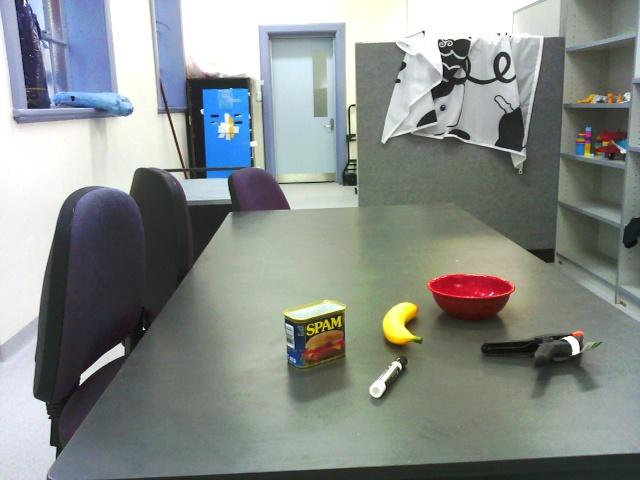010_potted_meat_can: (282, 299, 352, 367)
011_banana: (382, 298, 426, 350)
024_bowl: (422, 272, 522, 318)
040_large_marker: (367, 357, 412, 404)
051_large_clamp: (476, 330, 606, 377)
